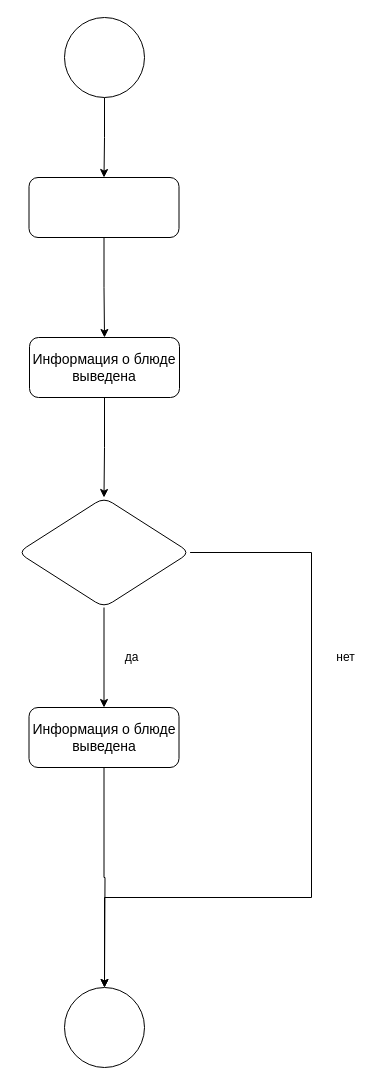
Image size: 383x1085. Some labels were removed from this diagram. Each missing label, with the centre of its shape:
"Будете есть?" goes at point 103,552.
"Фото отправлено" goes at point 103,207.
